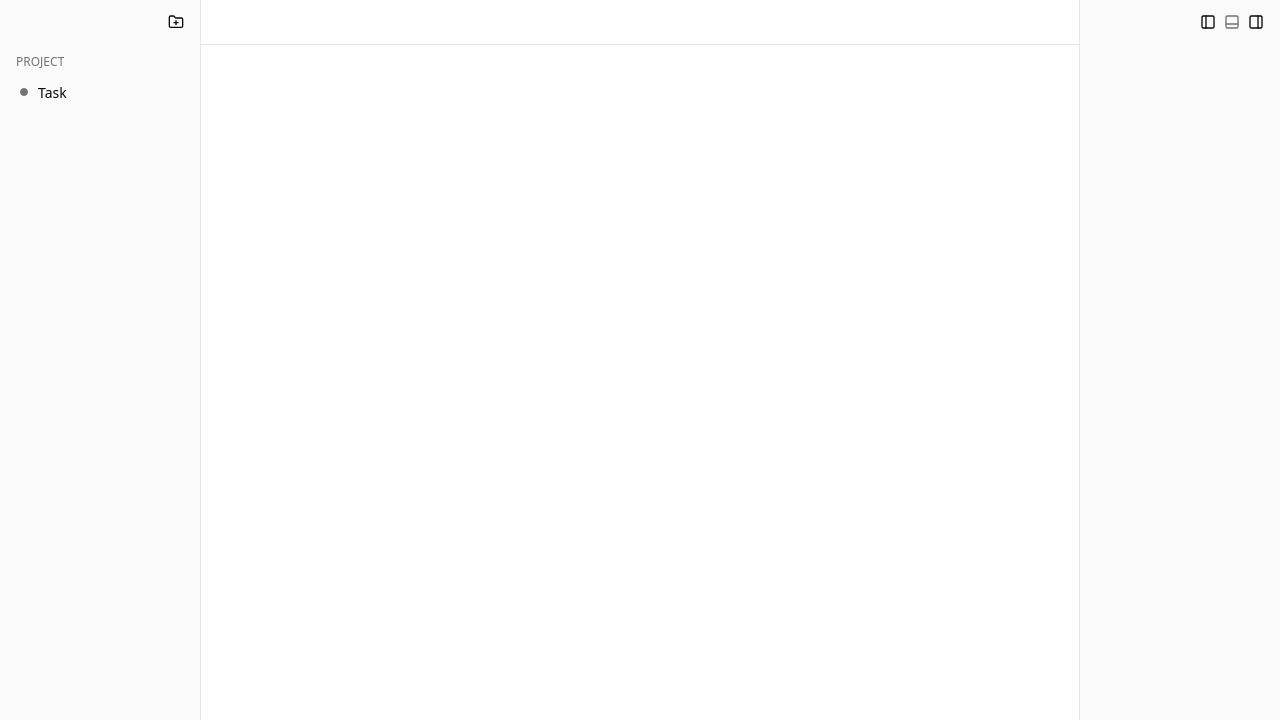
A conversation › is replayed once on a new watch after oxd's connection drops
Click the button with class "select". click: (100, 92)
box: [8, 76, 192, 108]
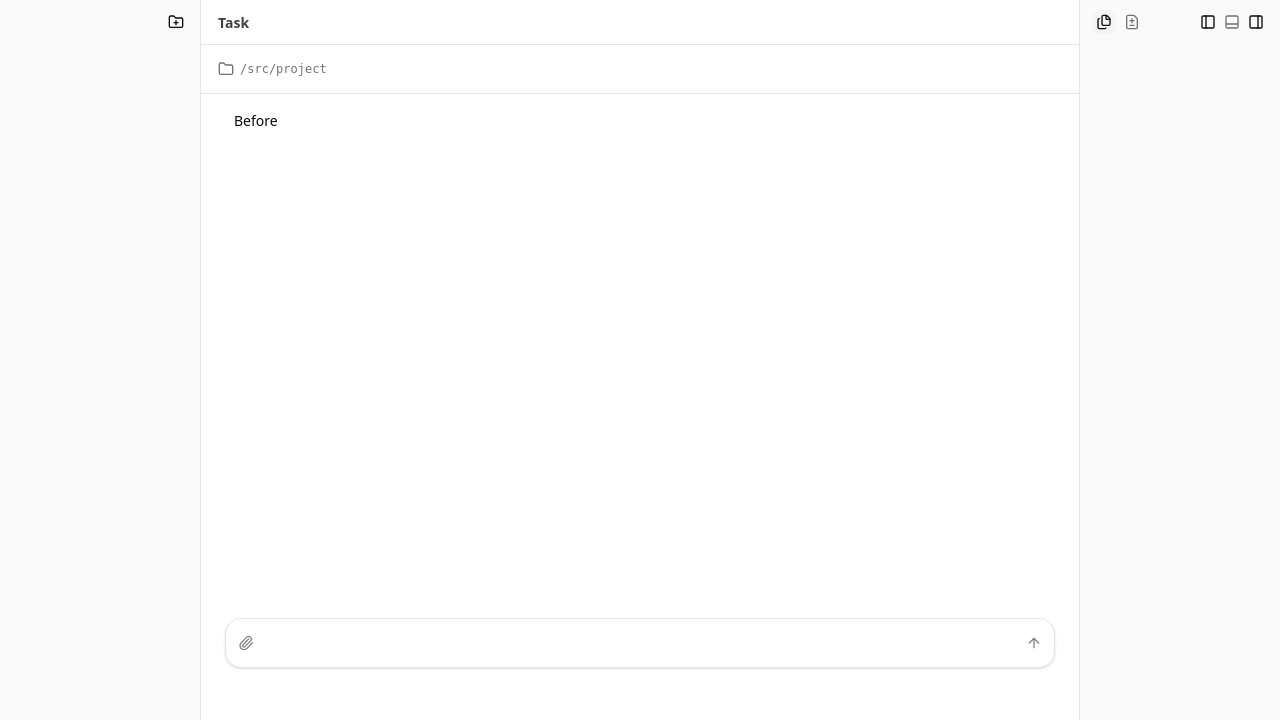
Expected: the number of elements with class "markdown" is 1, [234, 111, 278, 130]
Expected: the element with class "conversation" reads "Before", [234, 111, 278, 130]
